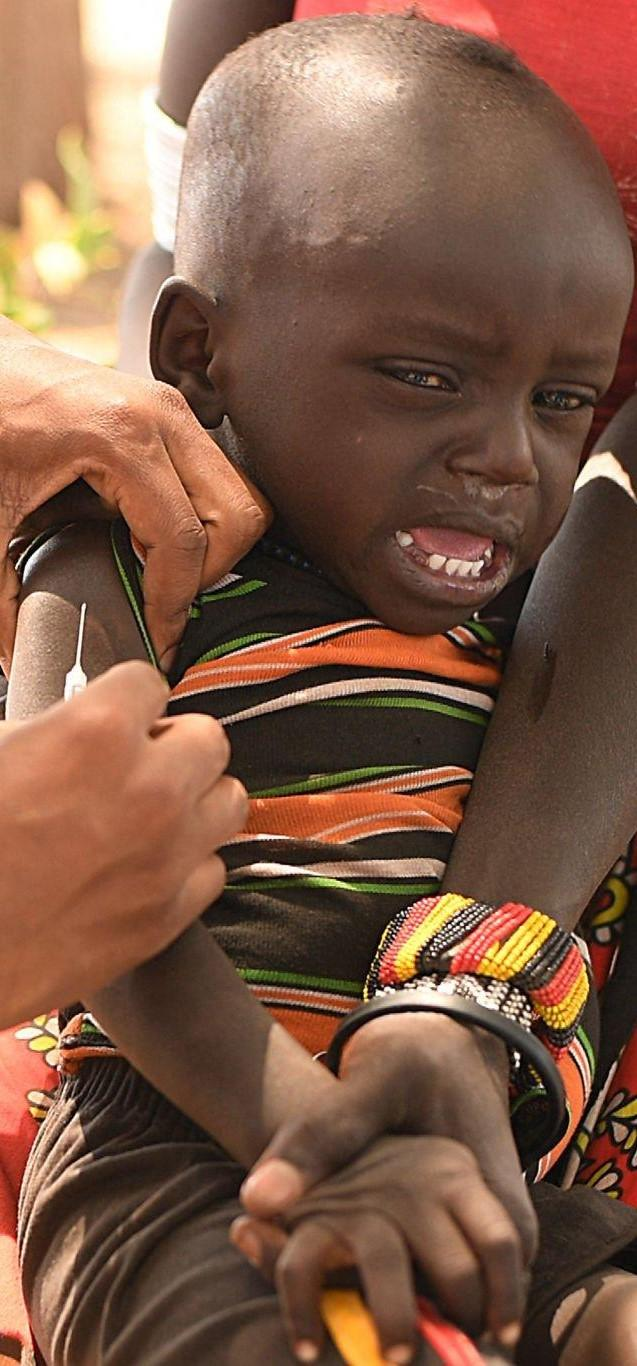Stunting: (177, 47, 637, 610)
